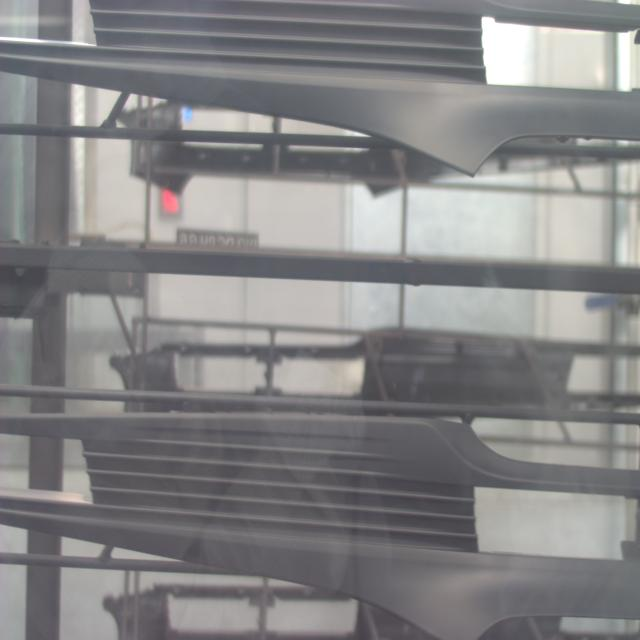Primered: (2, 411, 640, 640), (0, 0, 640, 175)
